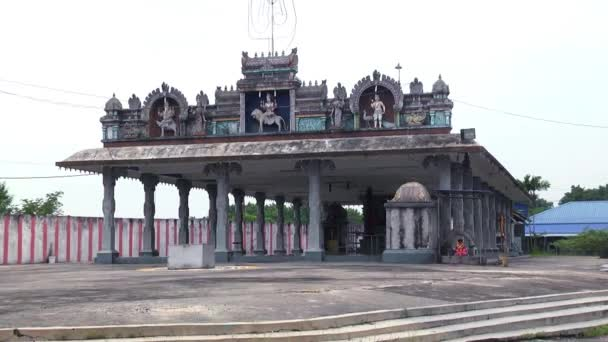Hindu Temple: (72, 50, 474, 251)
